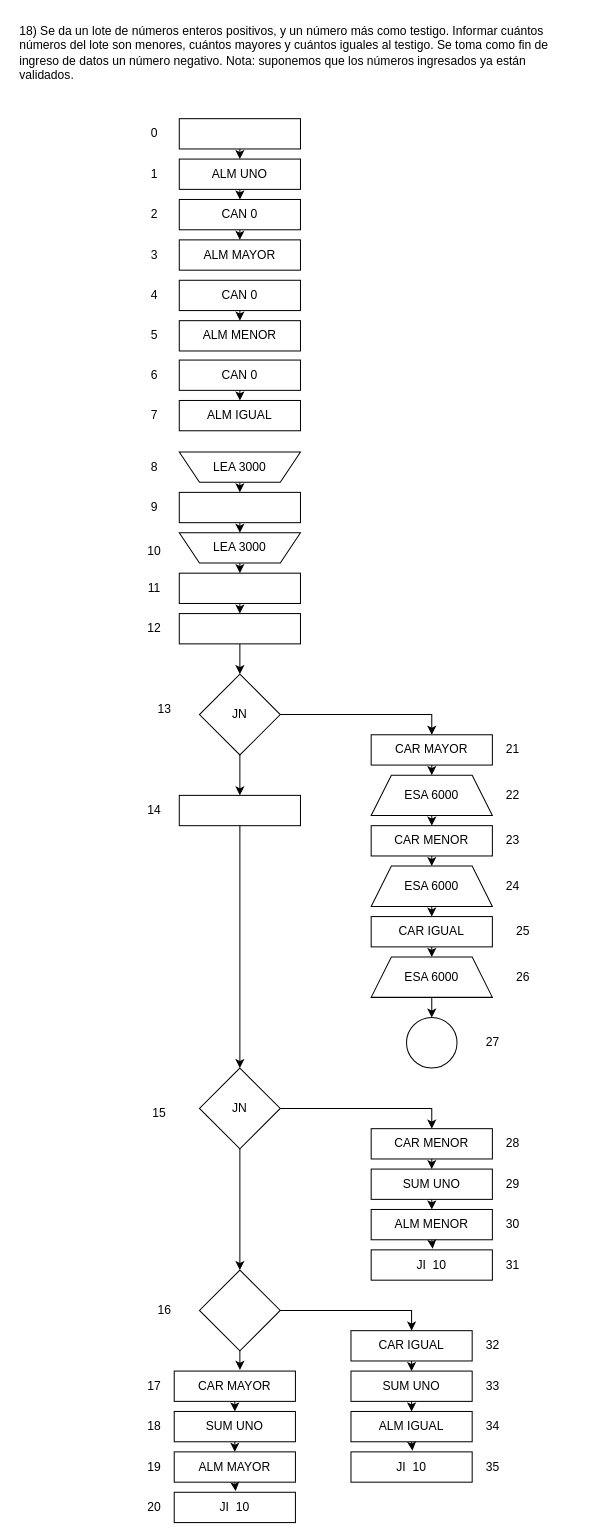
The diagram is 600 pixels wide and 1540 high, and some of its shapes have lost their labels. The shapes that lost their labels are listed below. From the top down, each one's box as (x1, y1, x2, y2) in pixels, then its label:
(178, 118, 300, 149): CAN 1
(178, 491, 300, 523): ALM TESTIGO
(178, 572, 300, 603): ALM N
(178, 613, 300, 644): MUL UNO
(178, 794, 300, 826): RES TESTIGO
(406, 1017, 457, 1068): PAR
(198, 1269, 280, 1351): JZ
